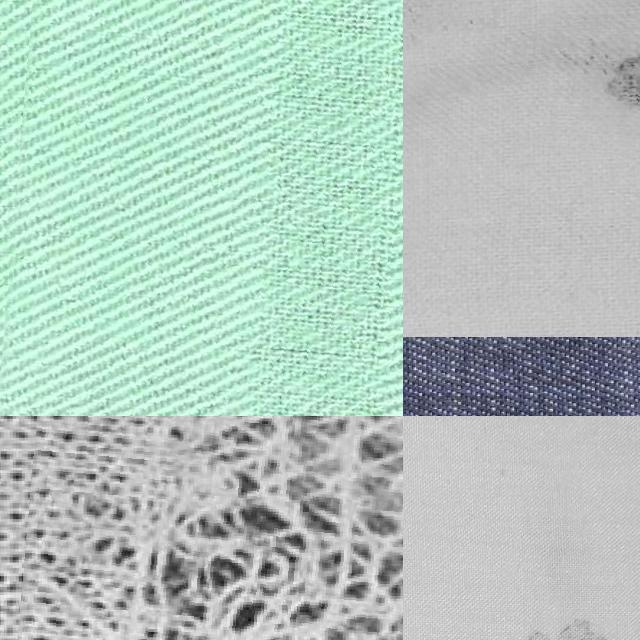Hole: (543, 0, 640, 162), (492, 588, 640, 640)
Thread_other: (3, 0, 403, 416), (16, 416, 403, 640)
